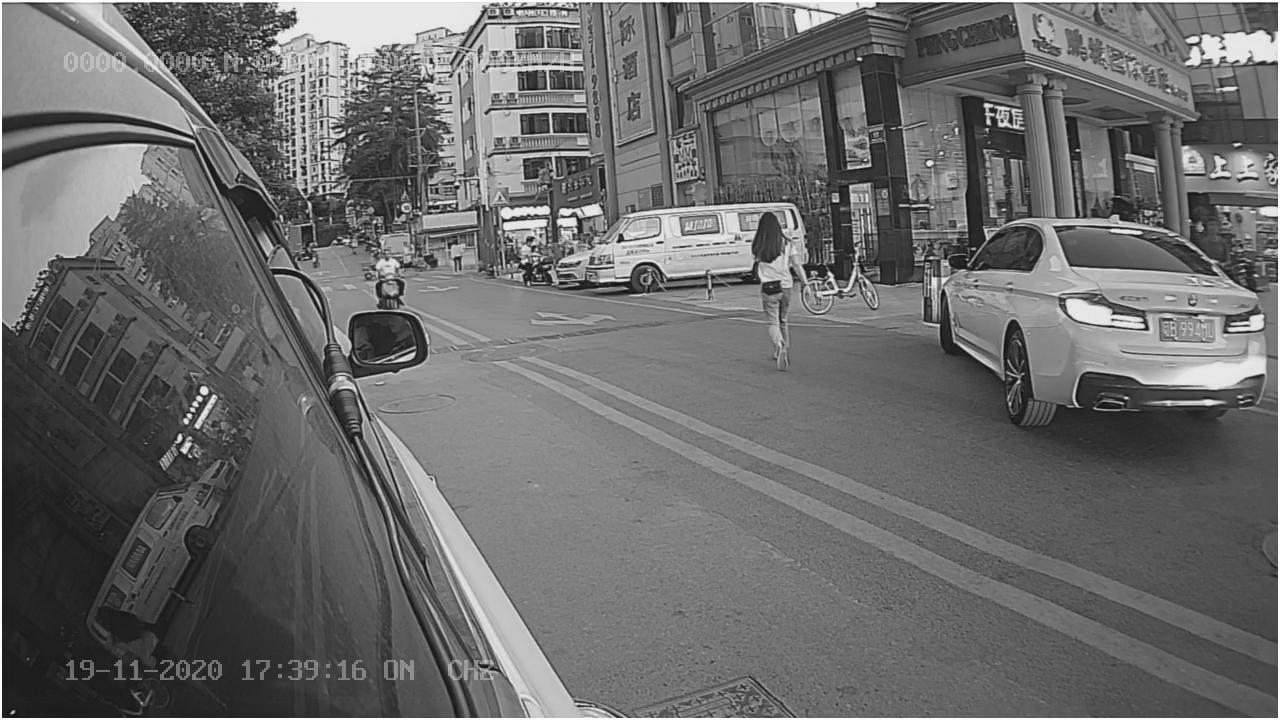person: (740, 210, 800, 377)
